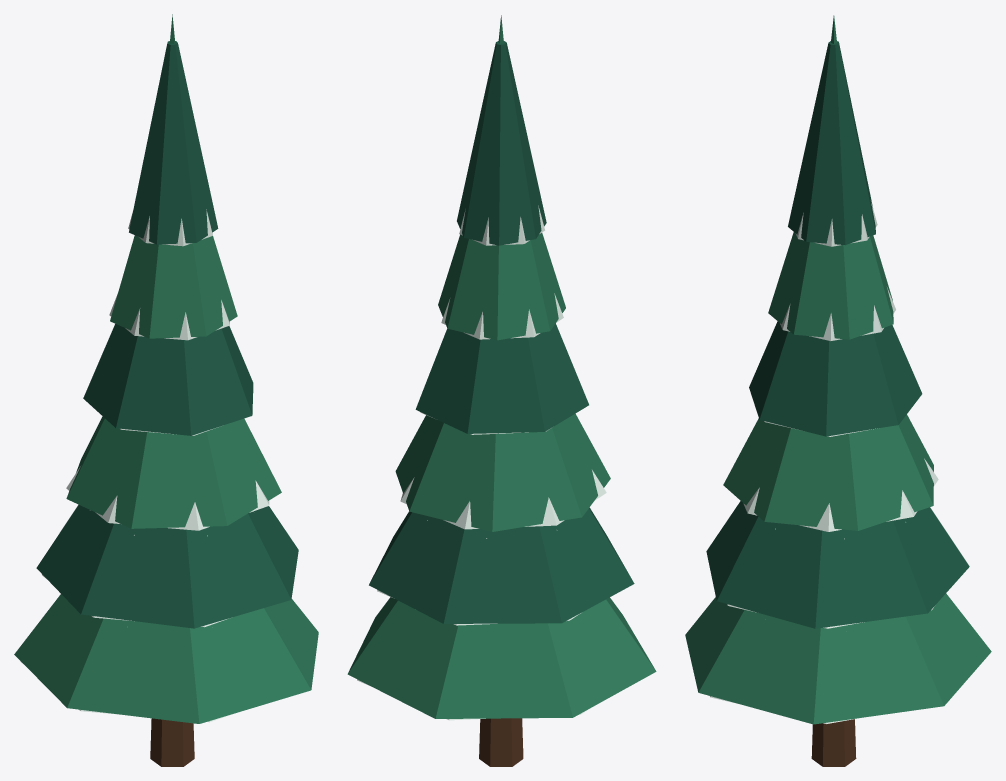
The model's file is Pine_Snow_A.glb.
3 views of the same model, side by side, from view 1: azimuth 30°, elevation 25°; view 2: azimuth 150°, elevation 25°; view 3: azimuth 270°, elevation 25° (orthographic).
Parts seen in each view (by area): view 1: Pine_Snow_A; view 2: Pine_Snow_A; view 3: Pine_Snow_A.
Part boxes in pixels (left/top/right/bottom): Pine_Snow_A: left=14, top=14, right=318, bottom=766; Pine_Snow_A: left=347, top=15, right=656, bottom=766; Pine_Snow_A: left=685, top=15, right=991, bottom=766.
Size of the model in its own units: 3.88 by 10.35 by 3.86.
Materials: 1 (1 with a texture image).
